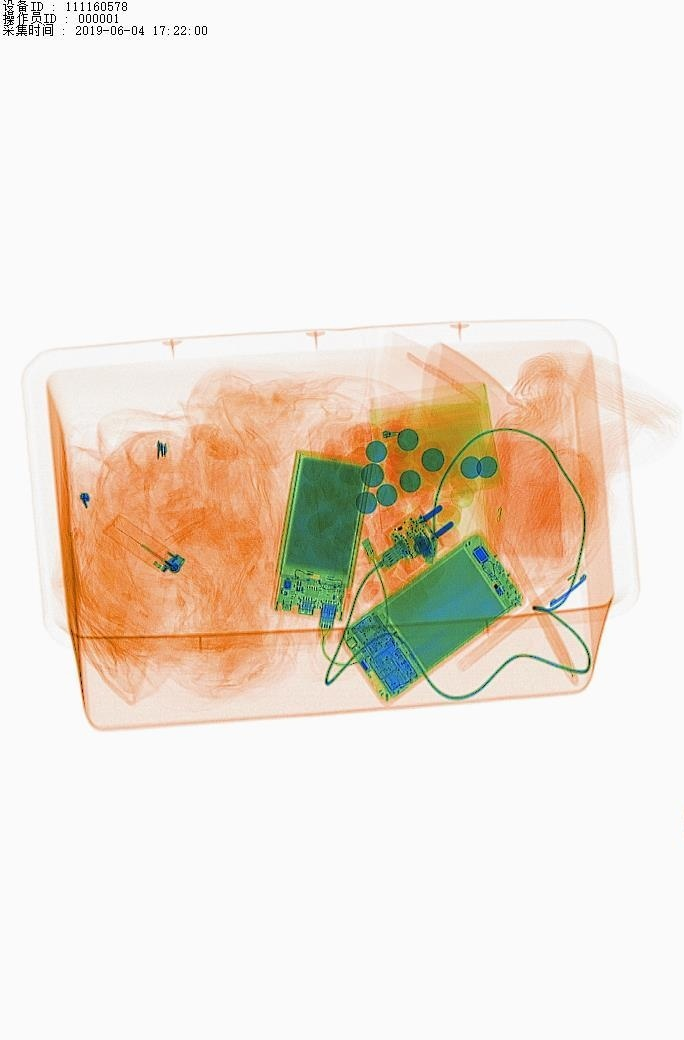NonmetallicFire: (97, 511, 207, 588)
